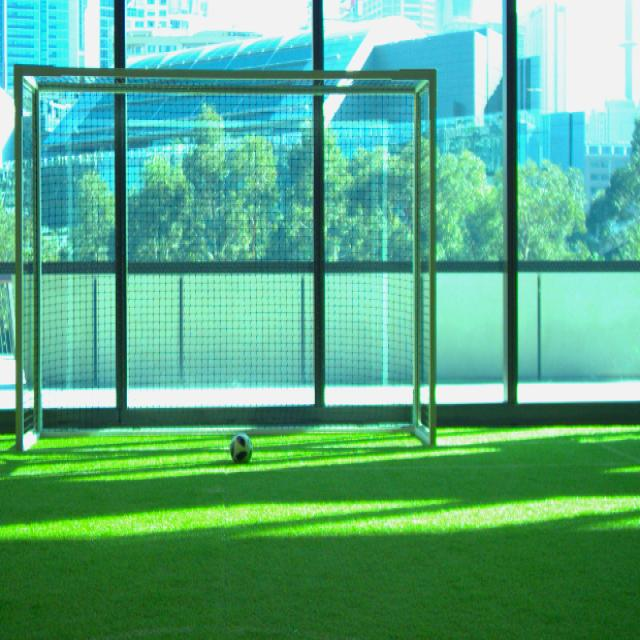ball: (230, 433, 252, 464)
goalpost: (15, 67, 25, 450), (429, 73, 438, 446)
